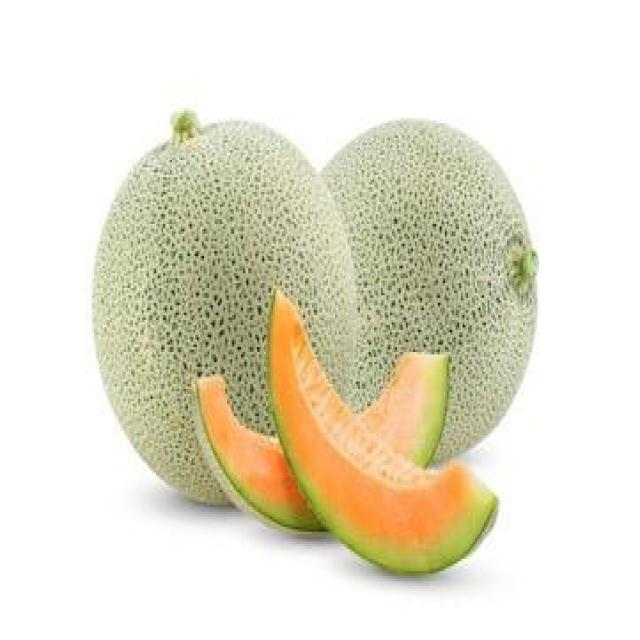cantaloupe: (93, 106, 357, 508), (327, 117, 536, 456), (268, 286, 500, 578)
